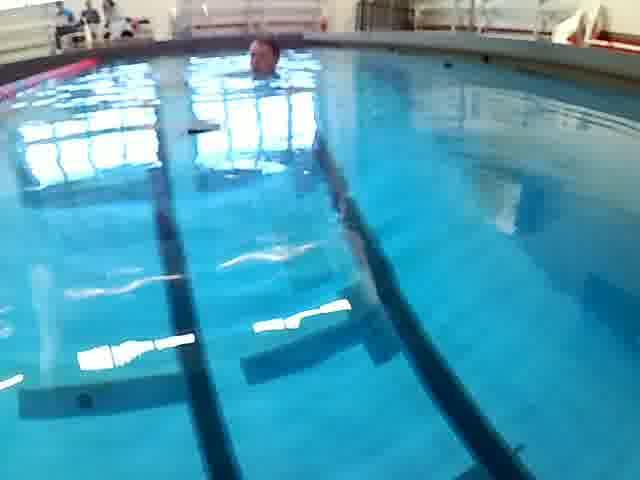CamMount: (184, 123, 217, 136)
